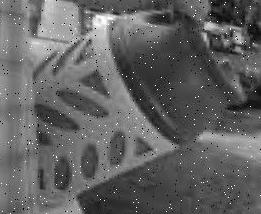cylinder: (1, 1, 261, 214)
